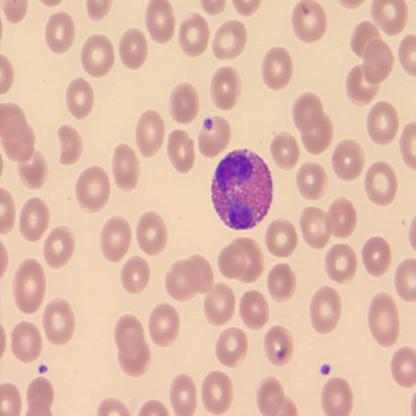Eosinophil: (210, 148, 274, 232)
